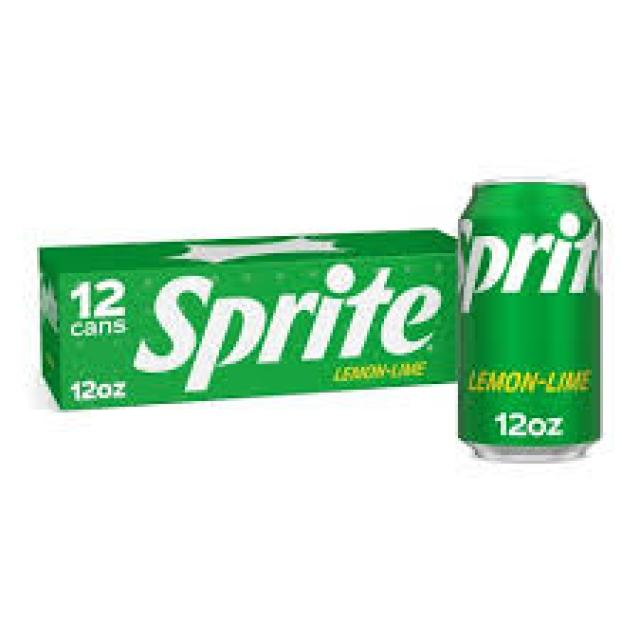Cans: (441, 159, 620, 472)
